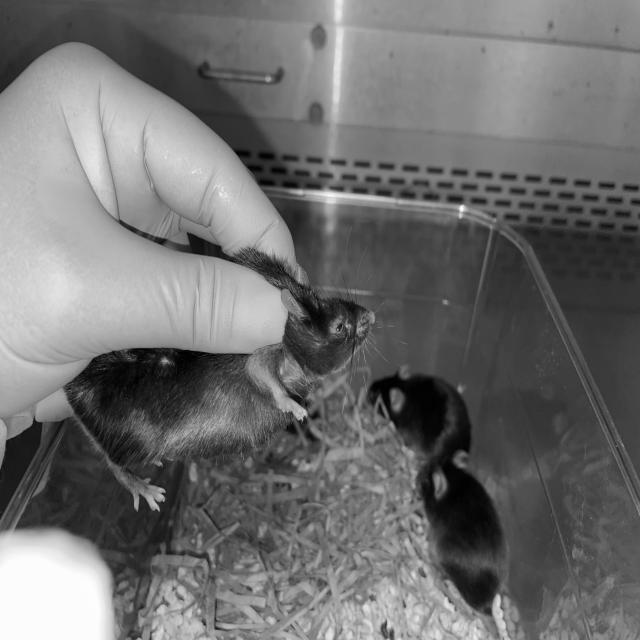Face: (276, 261, 384, 383)
